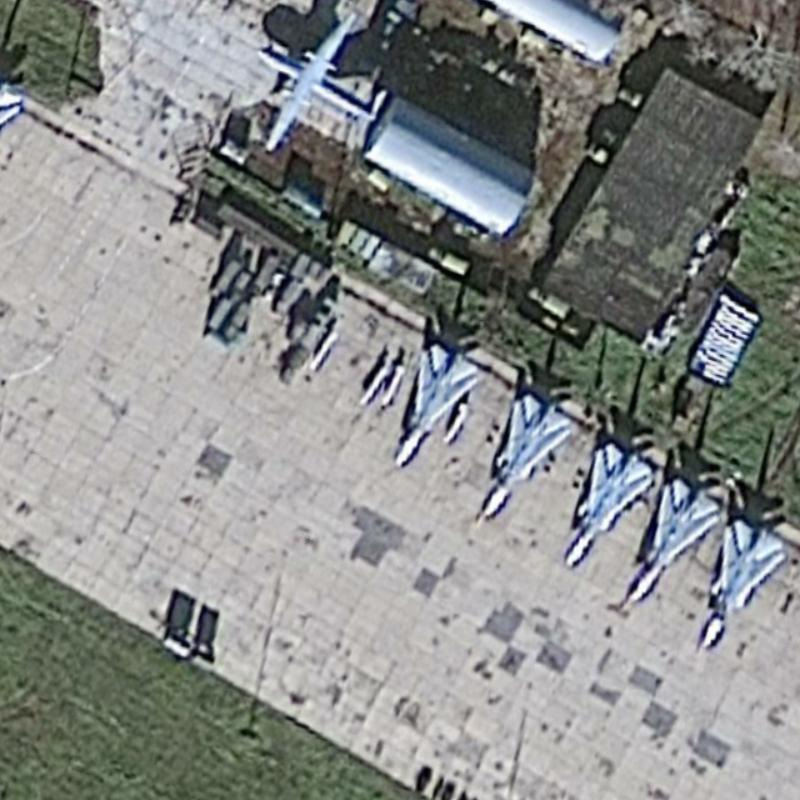A20: (626, 475, 721, 604), (561, 439, 655, 568), (480, 389, 573, 517), (699, 516, 788, 649), (390, 340, 481, 470)
